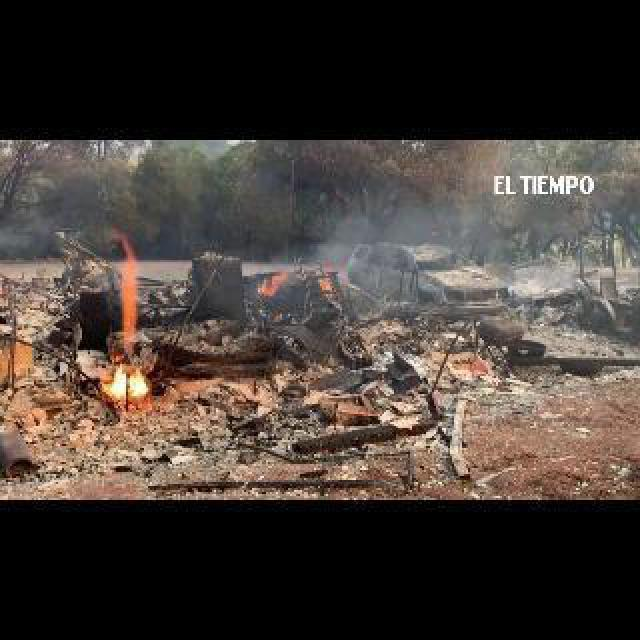smoke: (118, 238, 144, 348), (106, 370, 148, 400), (256, 274, 284, 296), (324, 266, 334, 288)
